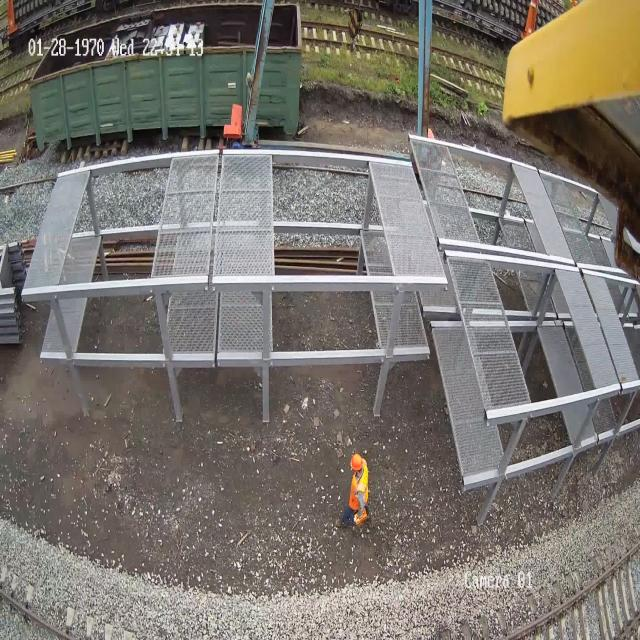Helmet: (350, 453, 362, 471)
Person: (342, 453, 369, 527)
